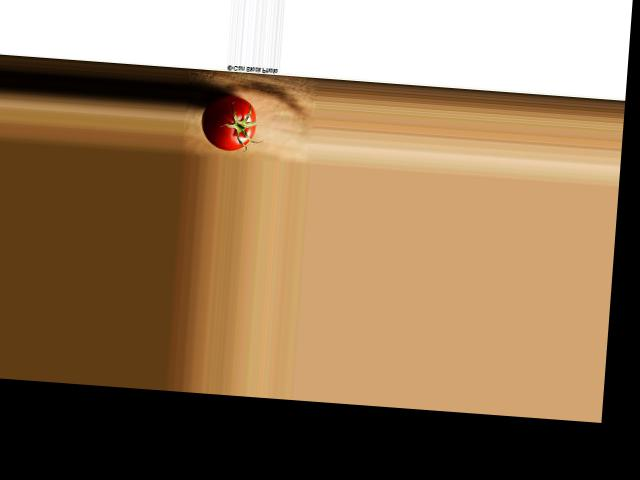tomato: (200, 93, 259, 151)
